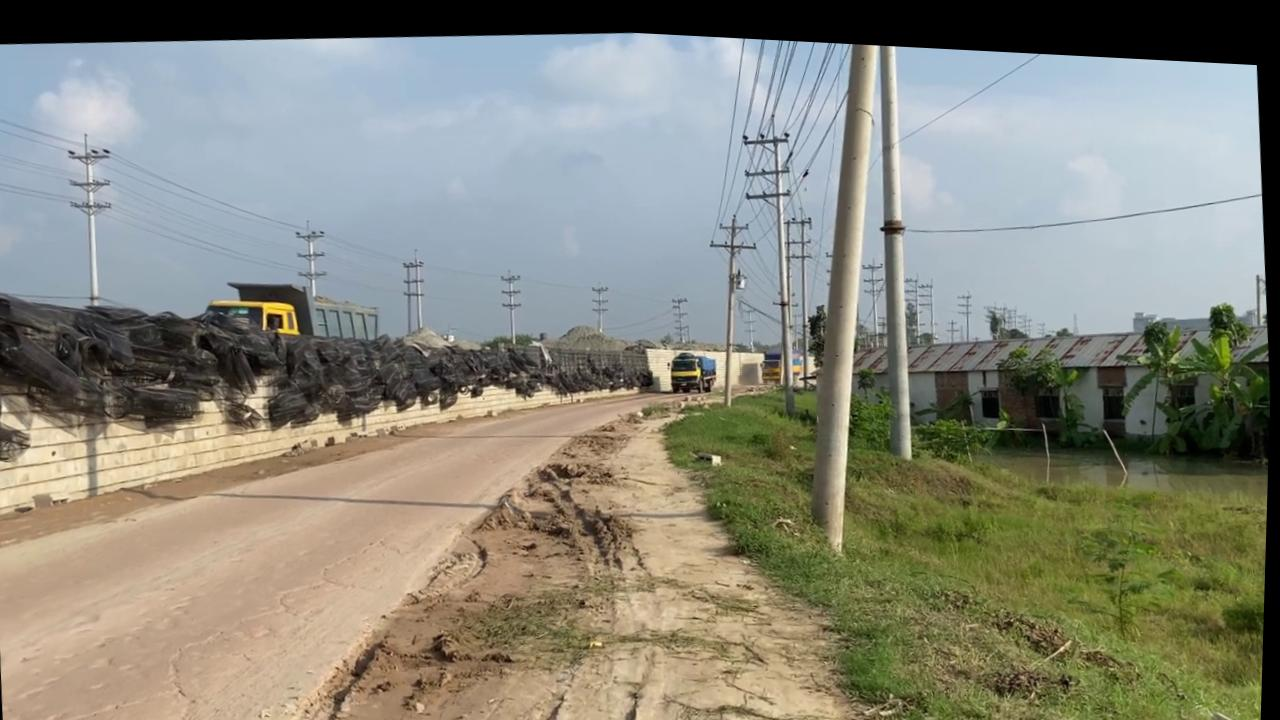Car: (669, 341, 720, 387)
Garbage: (0, 238, 660, 481)
Obstacle: (799, 287, 1274, 466)
Pole: (777, 32, 914, 547), (860, 35, 925, 451)
Rickshaw: (241, 364, 885, 720)
Sidewalk: (968, 415, 1271, 508)
Tree: (204, 267, 381, 347), (760, 339, 786, 377)
